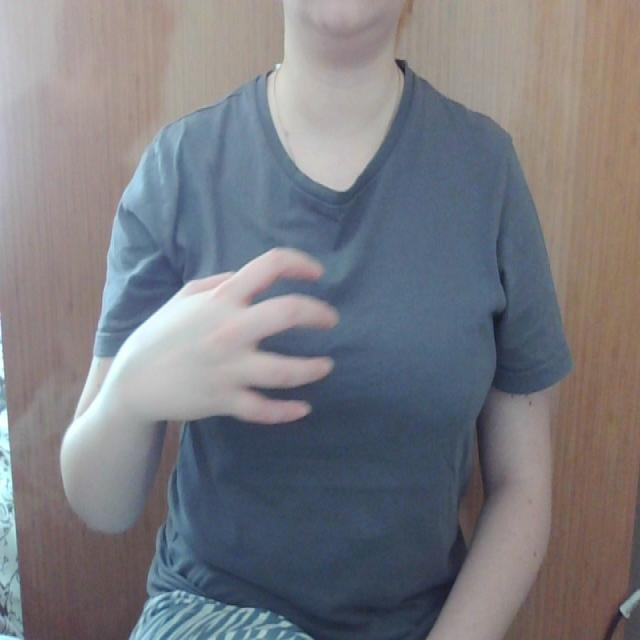Anne: (120, 234, 520, 452)
